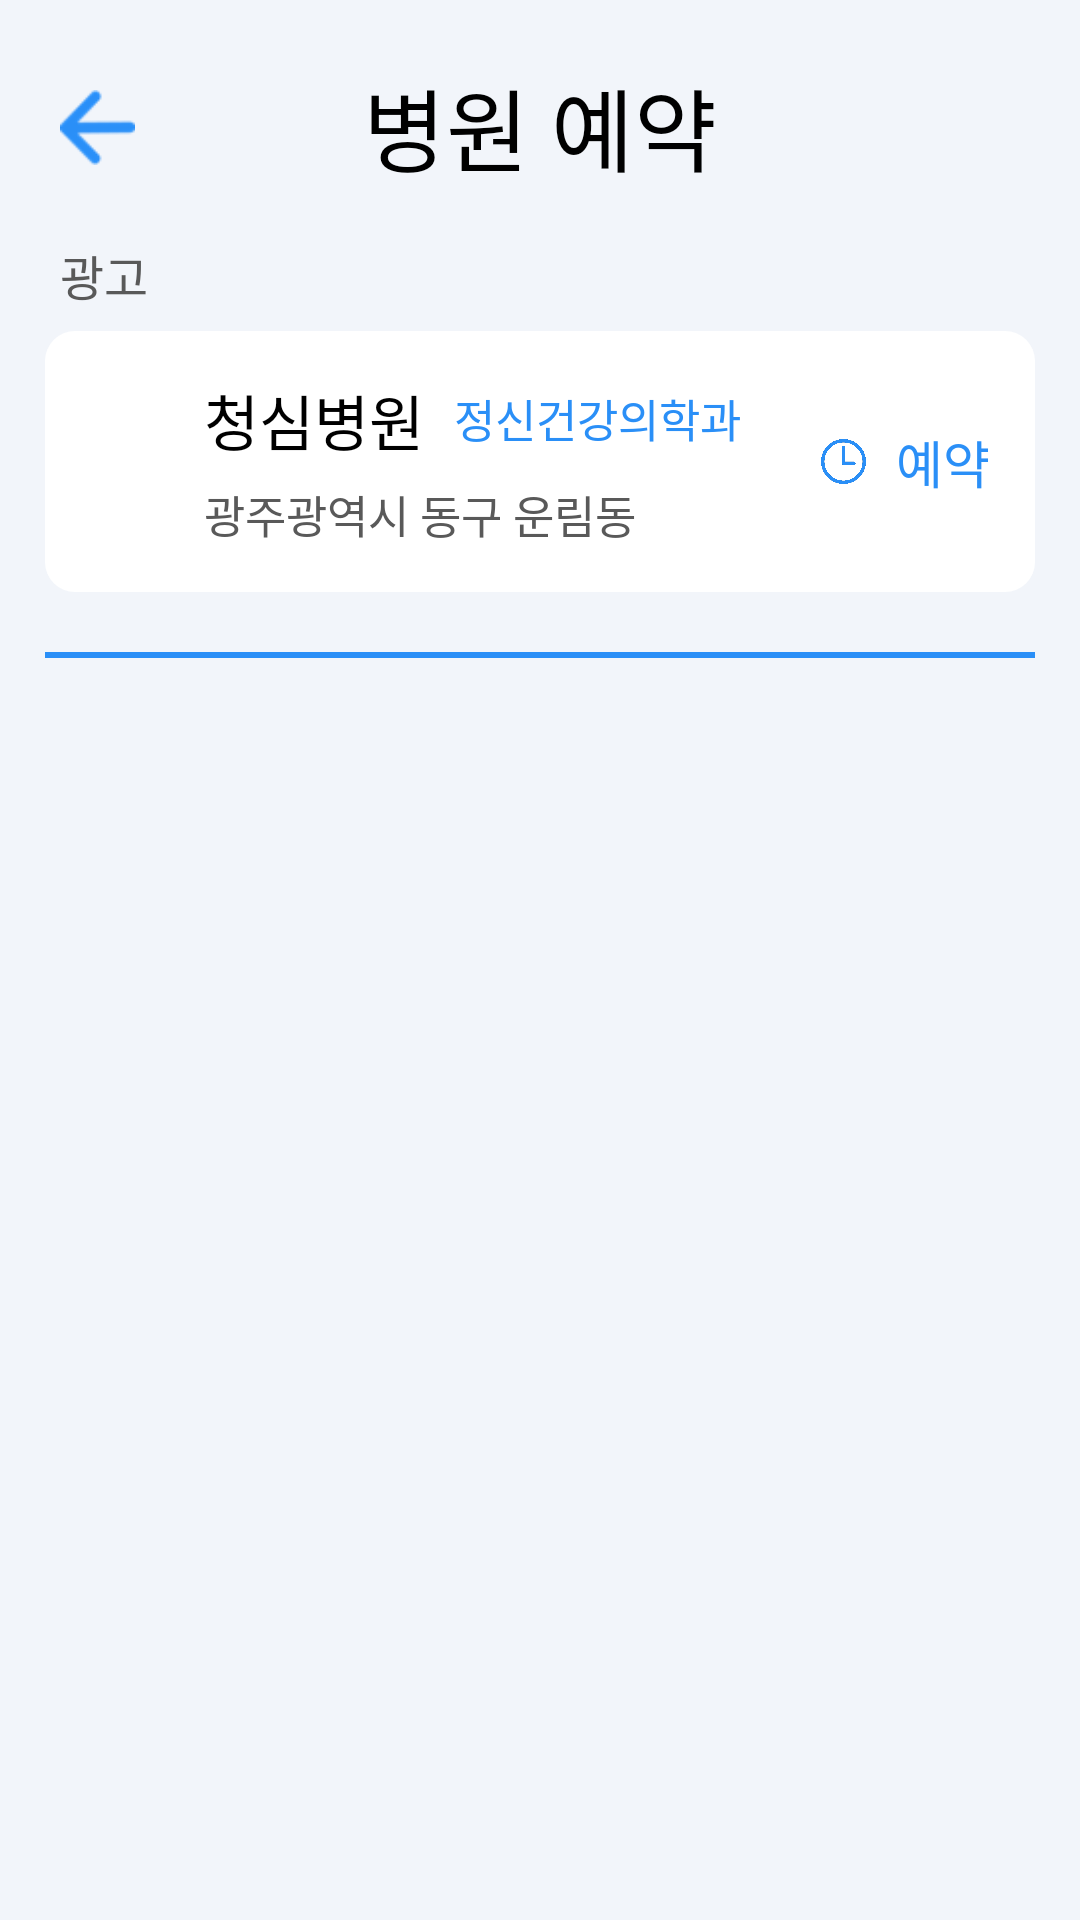

Icon bounding boxes for this 1080px x 1920px phone screenshot, format (x1, y1, x2, y2):
back: (60, 90, 135, 165)
clock: (821, 439, 866, 484)
